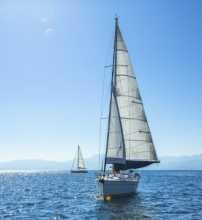fanchuan: (93, 10, 160, 201), (69, 144, 89, 175)
